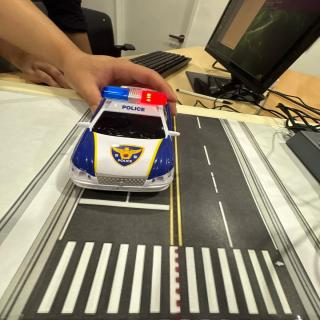Police_car: (69, 86, 180, 191)
